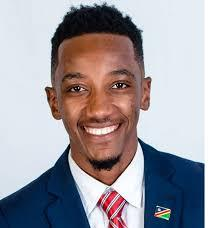person: (37, 0, 159, 174)
